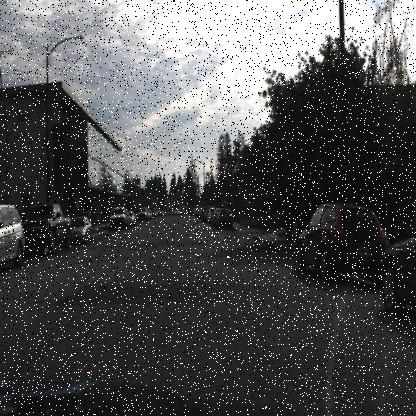car: (296, 200, 390, 285), (384, 229, 415, 324), (24, 200, 72, 260), (26, 203, 72, 255), (0, 204, 29, 268), (68, 210, 93, 245), (71, 214, 95, 247), (214, 206, 235, 232), (108, 204, 126, 232), (216, 206, 235, 230)
